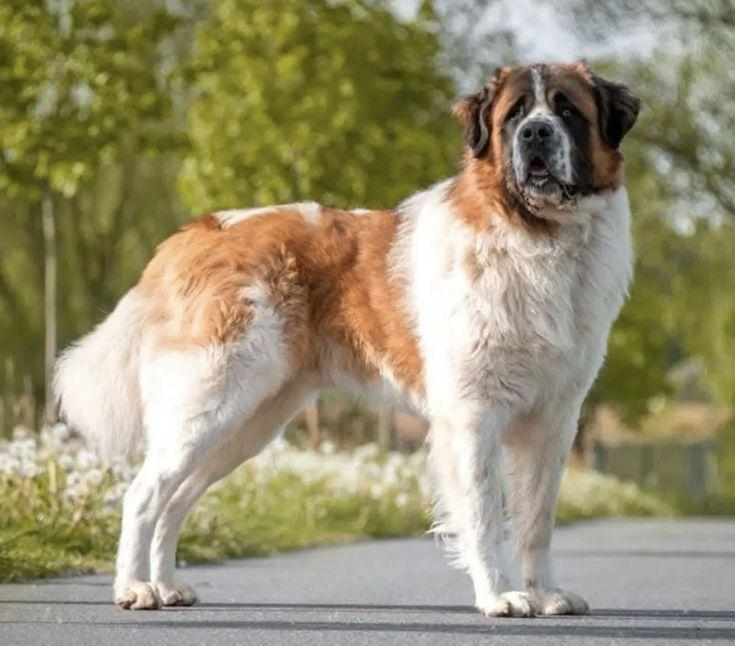dog: (56, 63, 638, 615)
